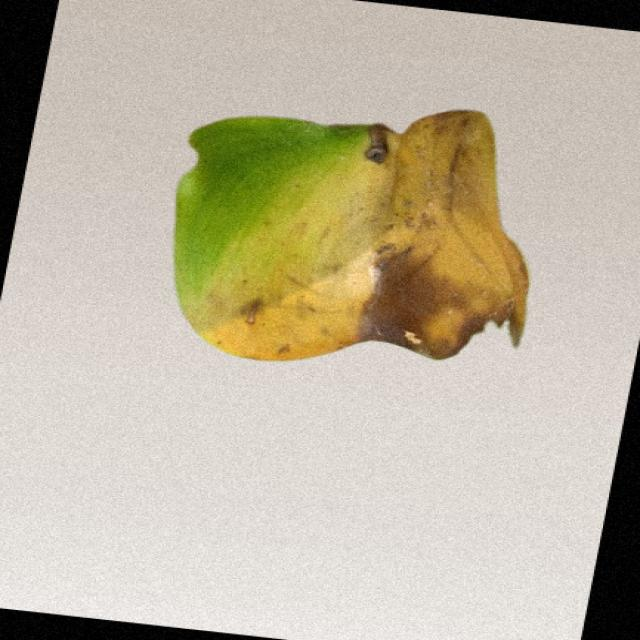daun berpenyakit kuning: (175, 114, 528, 360)
